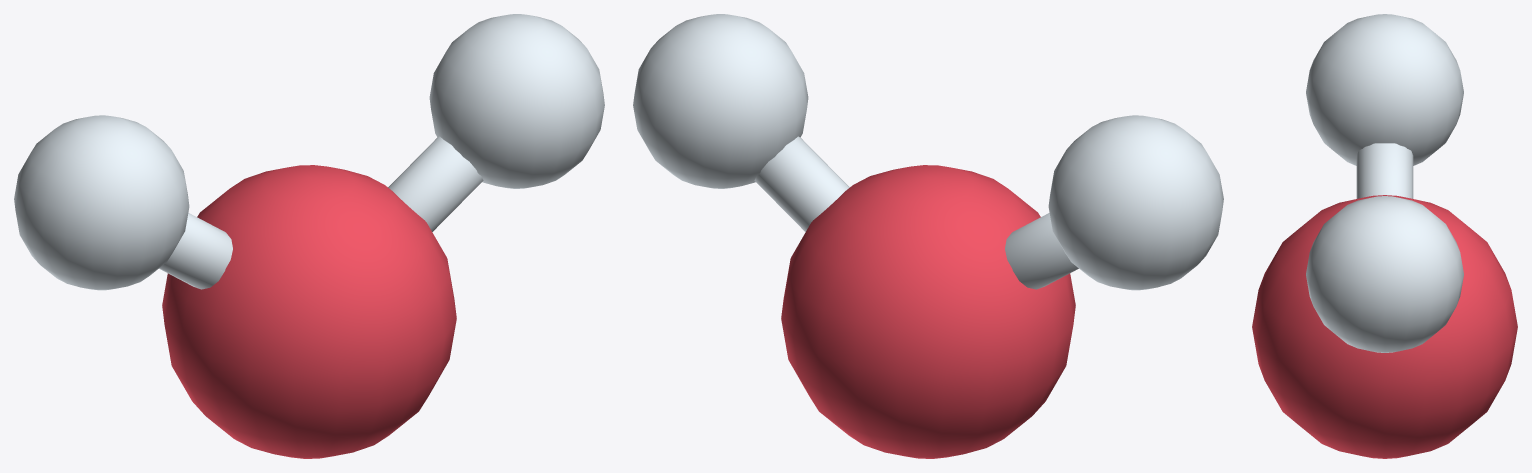
Rendered from water-molecule-lite.glb.
The picture shows the model from 3 angles, left to right: view 1: azimuth 30°, elevation 25°; view 2: azimuth 150°, elevation 25°; view 3: azimuth 270°, elevation 25°; orthographic projection. The views are drawn at different scales.
Parts seen in each view (by area): view 1: Oxygen; view 2: Oxygen; view 3: Oxygen.
Boxes of the visible parts, x1=… form: Oxygen: x1=14, y1=14, x2=604, y2=458; Oxygen: x1=633, y1=14, x2=1223, y2=458; Oxygen: x1=1252, y1=14, x2=1517, y2=458.
Size of the model in its own units: 1.86 by 1.17 by 0.84.
